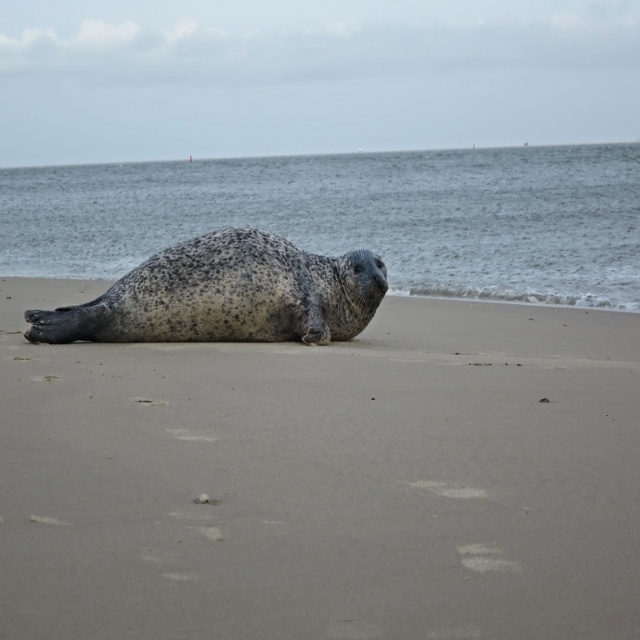Harbor seal: (31, 219, 381, 353)
